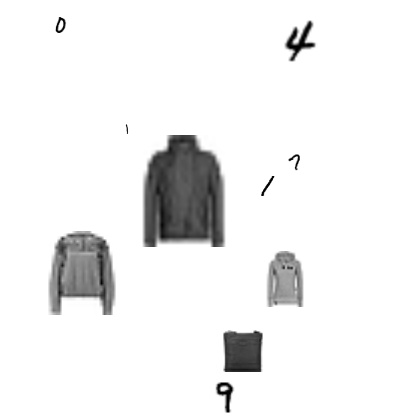0: (49, 14, 71, 36)
1: (253, 171, 281, 199), (120, 122, 134, 136)
4: (271, 13, 327, 69)
7: (284, 149, 306, 171)
9: (204, 372, 246, 414)
Bag: (222, 330, 264, 372)
Coat: (128, 135, 240, 247)
Pullover: (257, 251, 313, 307)
Shirt: (40, 231, 124, 315)
